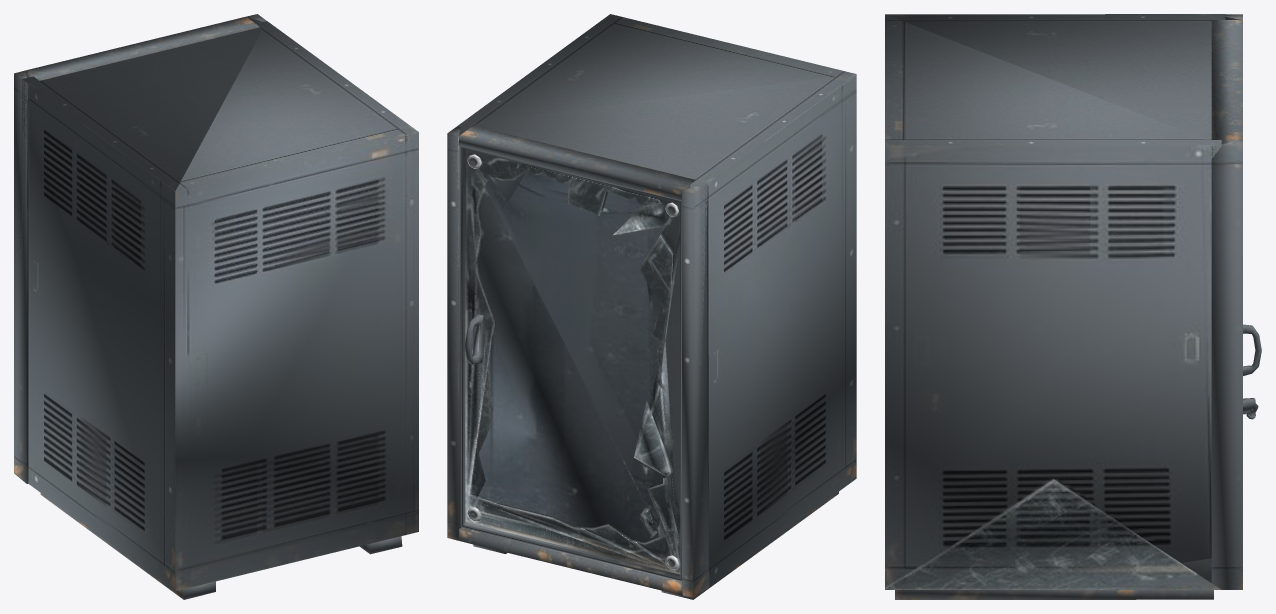
File: office-server-rack.glb
The picture shows the model from 3 angles, left to right: view 1: azimuth 30°, elevation 25°; view 2: azimuth 150°, elevation 25°; view 3: azimuth 270°, elevation 25°; orthographic projection. The views are drawn at different scales.
Visible parts, largest first — view 1: server-rack; view 2: server-rack; view 3: server-rack.
Part boxes in pixels (x1,y1,x2,y2): server-rack: [14, 14, 418, 599]; server-rack: [447, 14, 856, 599]; server-rack: [885, 14, 1261, 599].
Bounding box in the file's own units: 1.23 × 2 × 1.48.
1 material, 1 textured.
